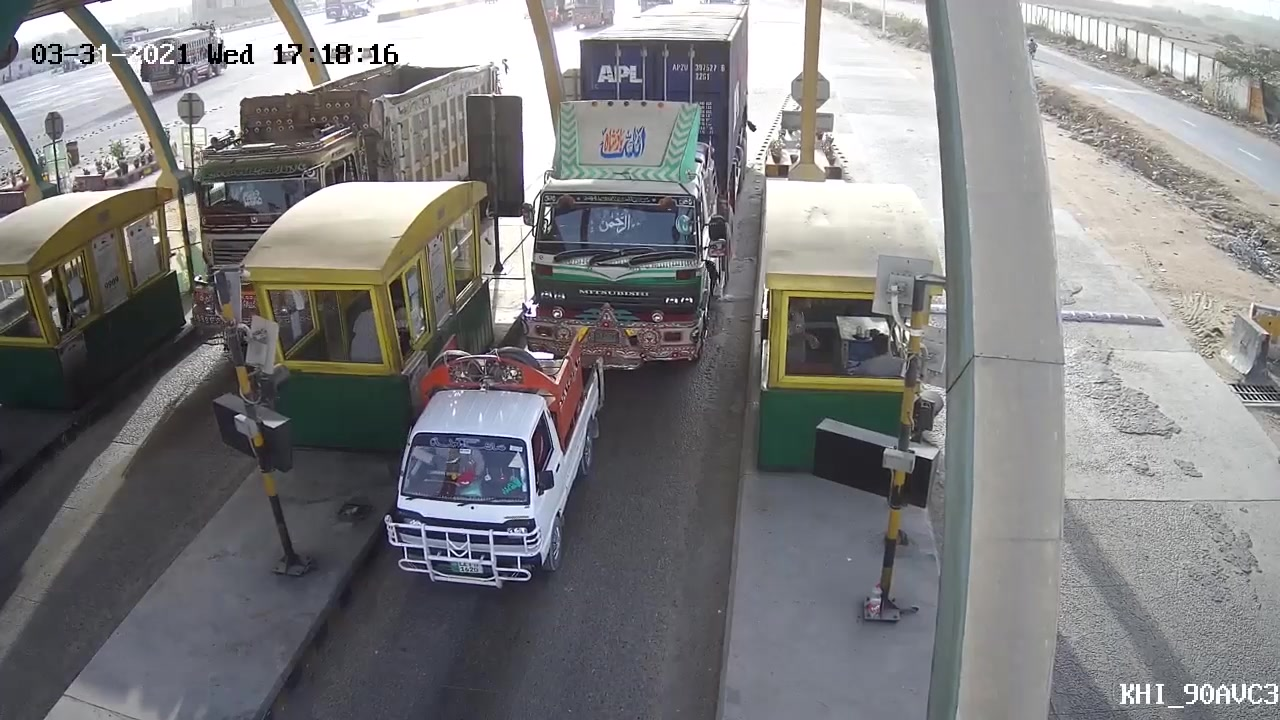F1: (386, 339, 609, 582)
F6: (519, 2, 757, 382)
